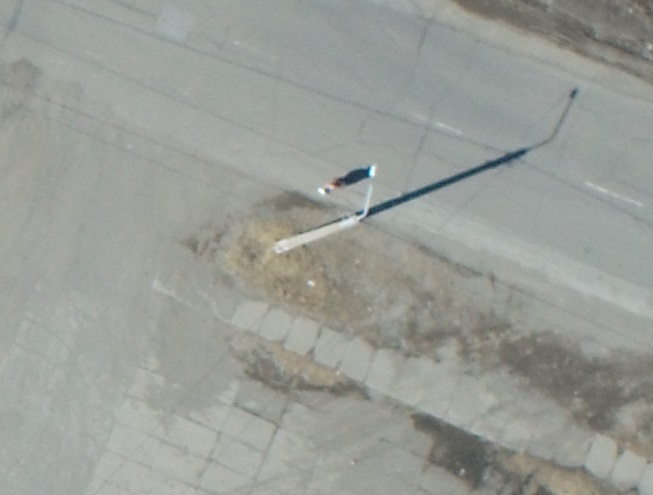opora: (272, 161, 415, 254)
